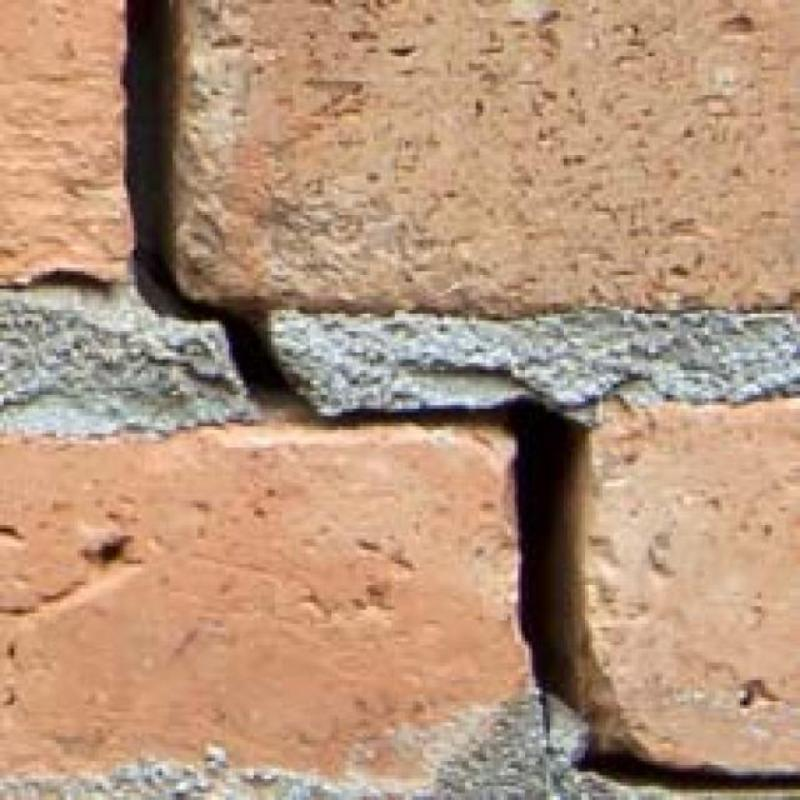pothole: (329, 395, 588, 707), (127, 0, 309, 409), (578, 752, 800, 791)
